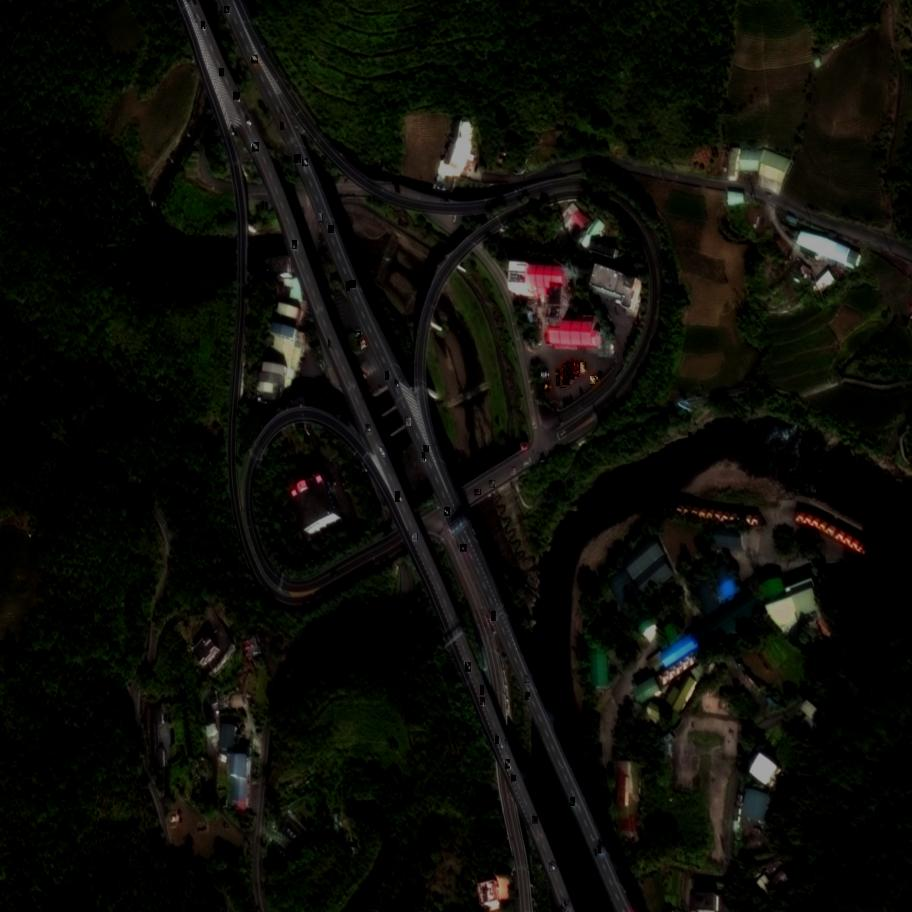large-vehicle: (567, 362, 581, 377), (564, 364, 575, 380), (563, 365, 571, 385), (560, 368, 567, 387), (556, 371, 562, 386)
small-vehicle: (549, 862, 559, 873), (541, 383, 551, 392), (574, 363, 582, 374), (377, 448, 386, 457), (464, 662, 472, 672), (294, 154, 302, 163), (252, 143, 260, 152), (444, 507, 452, 516), (395, 491, 401, 502), (355, 331, 363, 339), (250, 56, 258, 64), (531, 817, 539, 825), (301, 158, 308, 167), (504, 760, 511, 769), (349, 281, 356, 289), (233, 93, 240, 101), (489, 480, 496, 488), (590, 376, 597, 384), (564, 900, 571, 908), (412, 534, 419, 542), (580, 363, 585, 374), (405, 418, 411, 427), (491, 612, 497, 621), (510, 468, 517, 475), (525, 693, 532, 700), (460, 545, 467, 552), (365, 425, 371, 433), (394, 381, 400, 389), (328, 226, 334, 234), (245, 116, 251, 124), (474, 490, 482, 496), (594, 374, 600, 382), (524, 675, 530, 683), (571, 798, 577, 806), (329, 339, 334, 348), (292, 241, 297, 250), (219, 68, 224, 77), (560, 898, 565, 907), (541, 373, 548, 379), (359, 340, 366, 346), (224, 7, 230, 14), (385, 371, 390, 379), (201, 21, 206, 29), (598, 371, 603, 379), (480, 697, 485, 705), (361, 344, 367, 350), (346, 282, 350, 291), (512, 775, 517, 782), (495, 737, 500, 744), (319, 213, 323, 221), (502, 740, 506, 748), (194, 15, 199, 21), (424, 445, 428, 452), (422, 452, 425, 460), (598, 846, 601, 853), (595, 849, 597, 858), (481, 686, 483, 695), (281, 123, 283, 129)
